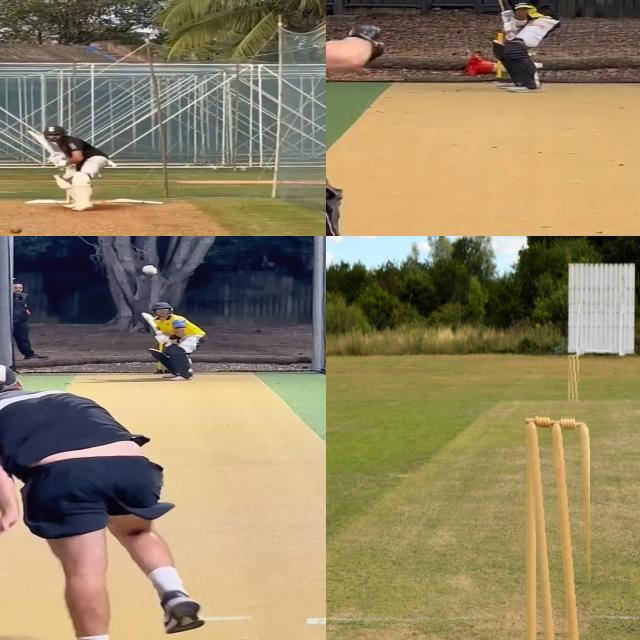Cricket ball: (141, 265, 158, 275), (10, 227, 22, 234)
Stumps: (525, 414, 590, 640), (567, 353, 579, 403)
